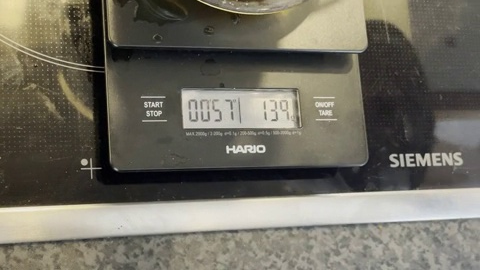display: (181, 88, 300, 128)
